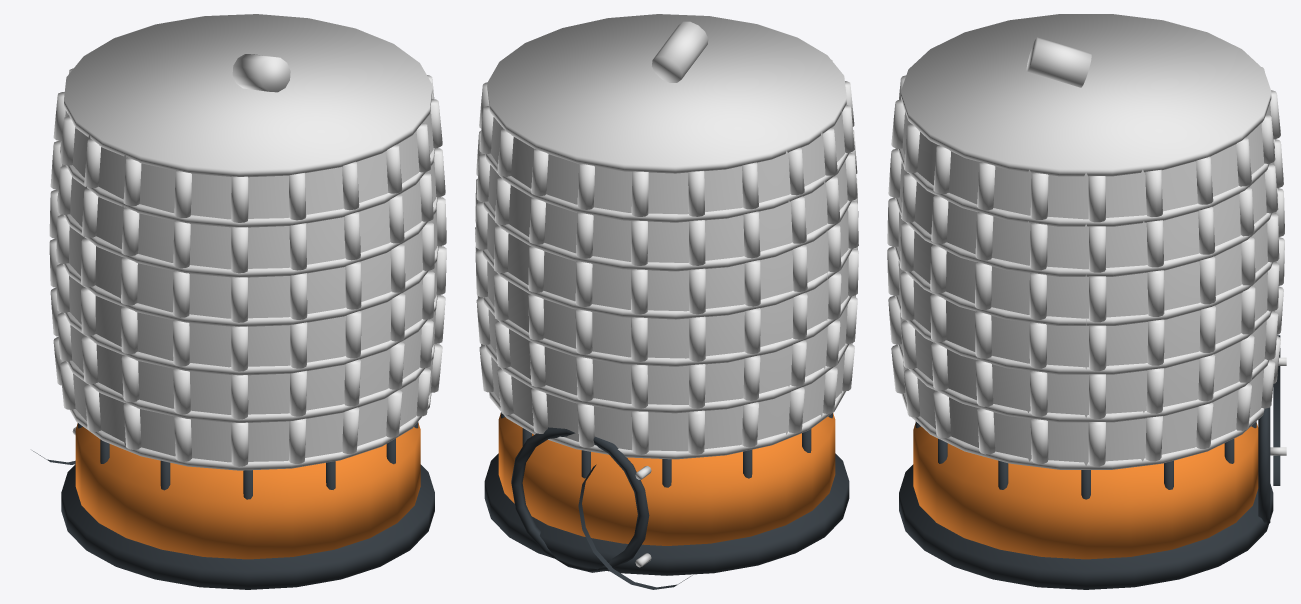
The model's file is boiler.fbx.
3 renders of one model, left to right at view 1: azimuth 30°, elevation 25°; view 2: azimuth 150°, elevation 25°; view 3: azimuth 270°, elevation 25°, orthographic. The views are drawn at different scales.
Parts seen in each view (by area): view 1: Boiler; view 2: Boiler; view 3: Boiler.
Part boxes in pixels (x1,y1,x2,y2): Boiler: [32, 14, 446, 589]; Boiler: [475, 14, 858, 589]; Boiler: [887, 14, 1286, 589].
Bounding box in the file's own units: 88.27 × 118 × 88.83.
